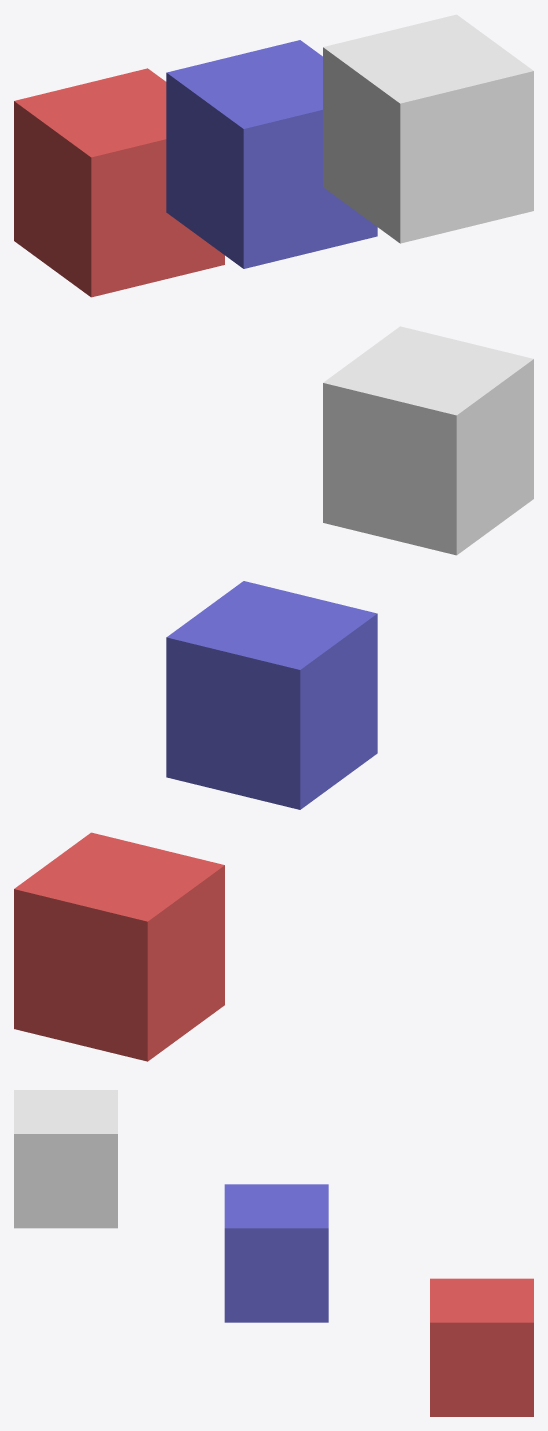
The model's file is step_003_threecube.glb.
3 views of the same model, one above another, from view 1: azimuth 30°, elevation 25°; view 2: azimuth 150°, elevation 25°; view 3: azimuth 270°, elevation 25° (orthographic). The views are drawn at different scales.
Parts seen in each view (by area): view 1: CubeL, CubeM, CubeR; view 2: CubeM, CubeR, CubeL; view 3: CubeM, CubeR, CubeL.
Part boxes in pixels (<box>): CubeL: <box>323,14,533,243</box>; CubeM: <box>166,40,377,268</box>; CubeR: <box>14,68,224,297</box>; CubeM: <box>166,581,377,809</box>; CubeR: <box>14,832,224,1061</box>; CubeL: <box>323,326,533,555</box>; CubeM: <box>224,1184,328,1322</box>; CubeR: <box>430,1278,533,1416</box>; CubeL: <box>14,1090,117,1228</box>.
Size of the model in its own units: 2 by 6 by 10.
